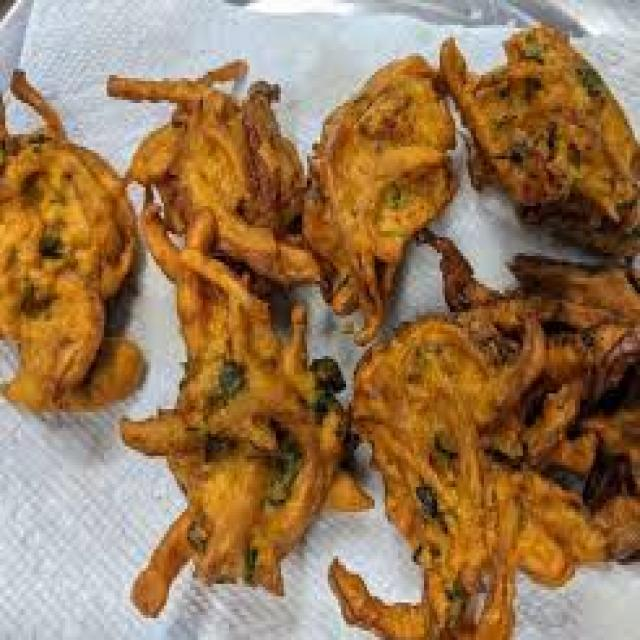BAJI: (104, 23, 637, 637), (0, 100, 144, 413)
